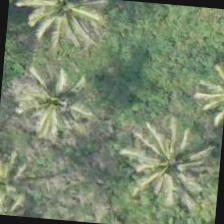Kelapa_Sawit: (122, 118, 220, 216), (10, 58, 108, 156), (14, 0, 110, 56), (0, 135, 51, 218)
